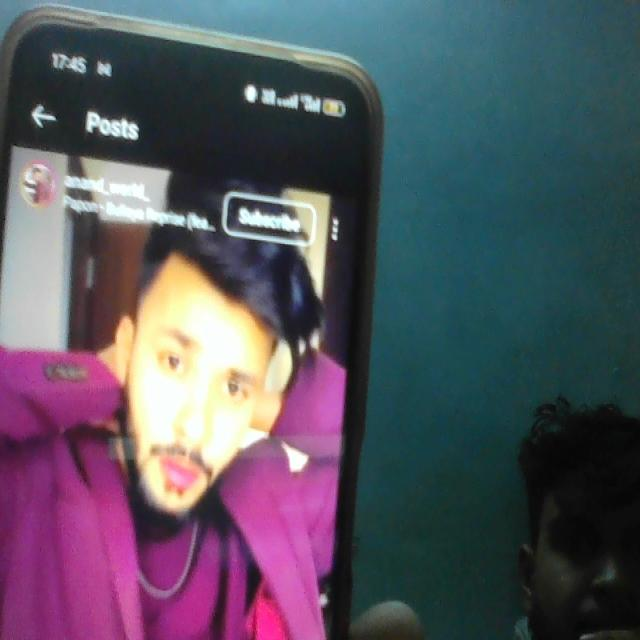fake: (114, 205, 283, 524)
